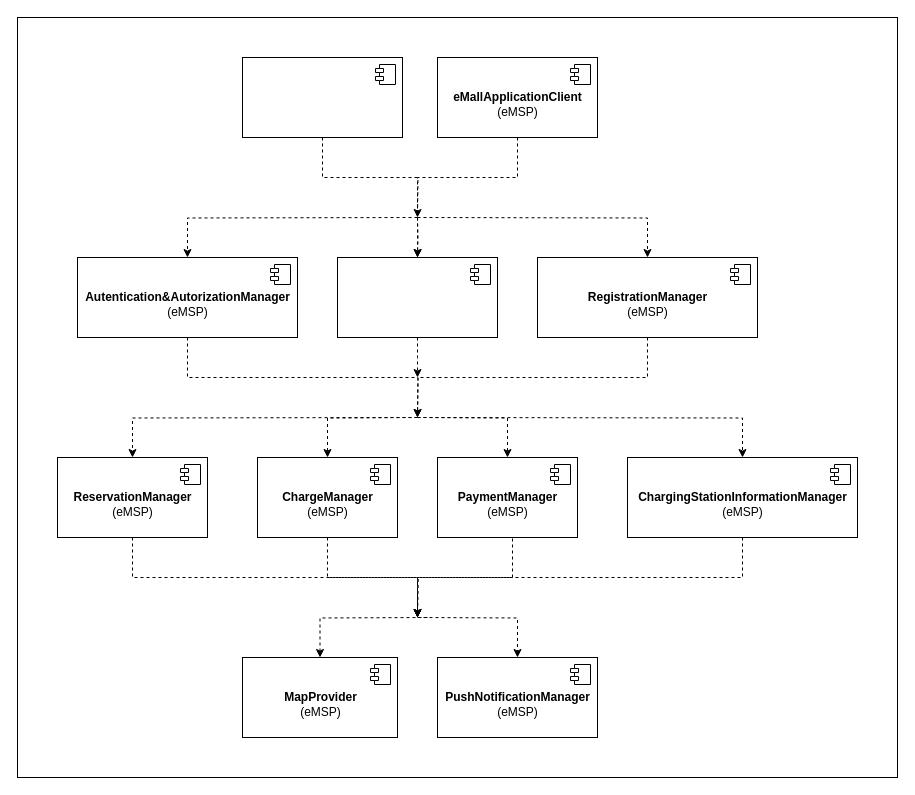
Some shapes in this 915 by 795 pixel diagram are drawn without their labels. Each missing label, with the centre of its shape:
"CPMSApiHandler (eMSP)" belongs at [417,297].
"DataManager (eMSP)" belongs at [322,97].
